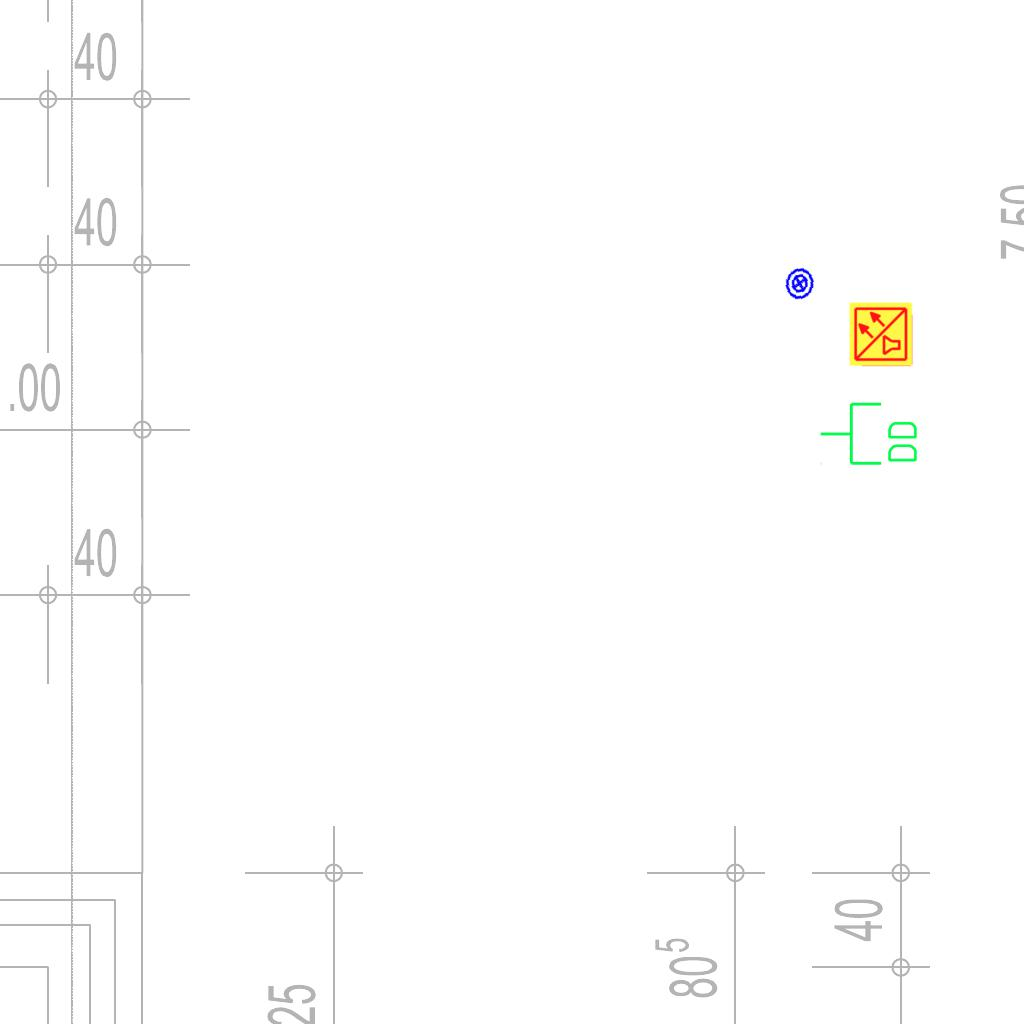Datenanschluss_zweifach: (818, 400, 921, 469)
OKW_Multisensormelder_(Kombination_optischer_Rauch-Kahlenmonoxid_Waerme-Melder): (848, 301, 914, 367)
Taster_beleuchtet: (780, 264, 819, 303)
